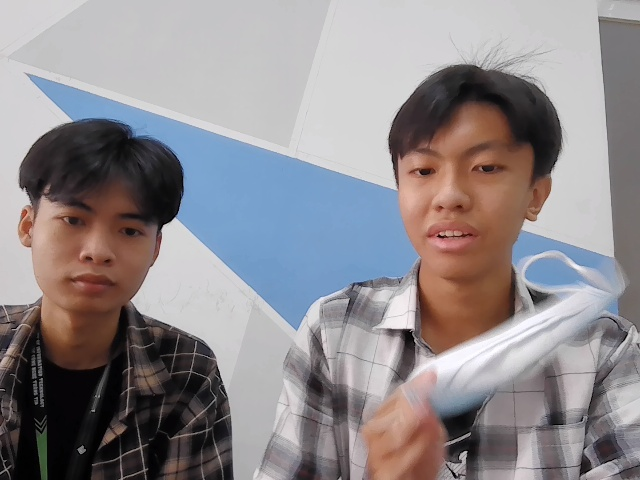human: (373, 52, 584, 269), (14, 114, 186, 305)
